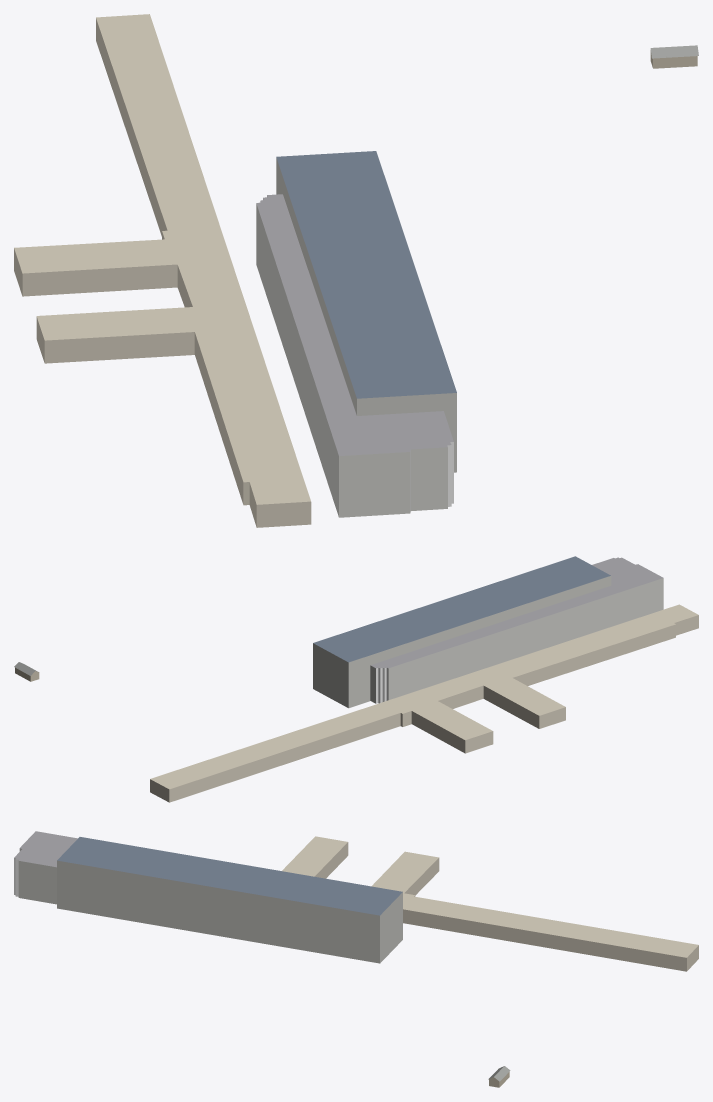
The picture shows the model from 3 angles, top to bottom: view 1: azimuth 30°, elevation 25°; view 2: azimuth 150°, elevation 25°; view 3: azimuth 270°, elevation 25°; orthographic projection. The views are drawn at different scales.
Parts seen in each view (by area): view 1: tuile; view 2: tuile; view 3: tuile.
Part boxes in pixels (x1,y1,x2,y2): tuile: [14, 14, 698, 527]; tuile: [14, 556, 698, 802]; tuile: [14, 831, 698, 1087].
Size of the model in its own units: 252 by 24.22 by 305.
